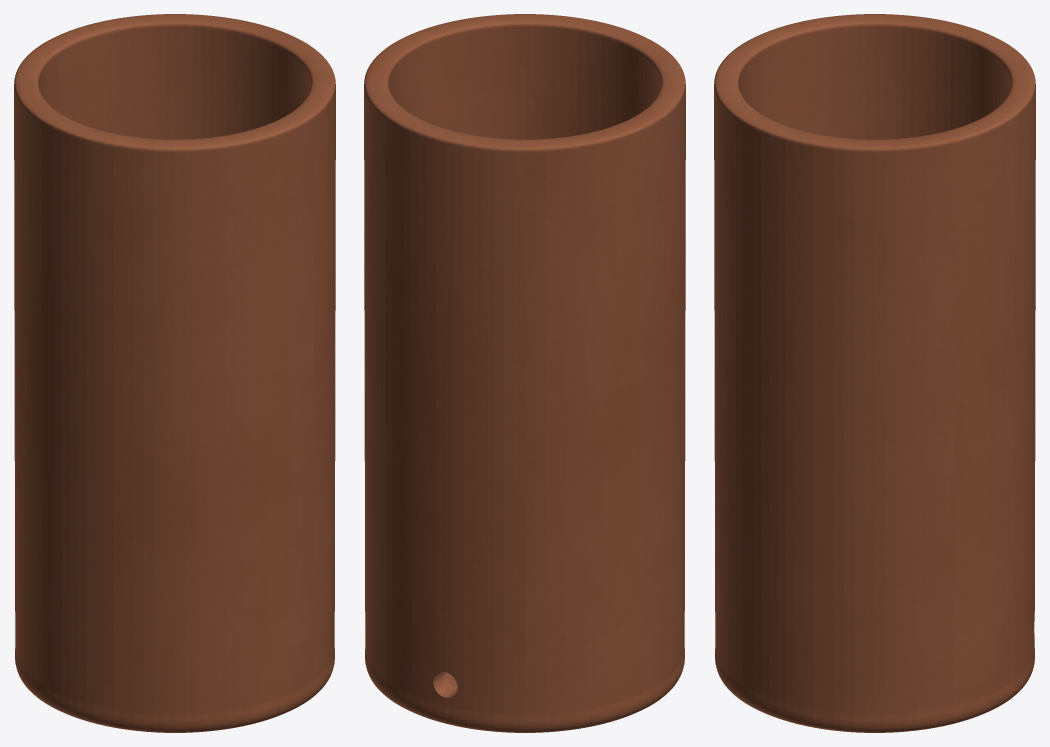
File: c9827eb0-056e-43b1-a103-bbad47dc0121.glb
The picture shows the model from 3 angles, left to right: view 1: azimuth 30°, elevation 25°; view 2: azimuth 150°, elevation 25°; view 3: azimuth 270°, elevation 25°; orthographic projection.
Parts seen in each view (by area): view 1: Cube; view 2: Cube; view 3: Cube.
Part boxes in pixels (x1,y1,x2,y2): Cube: [14, 14, 335, 732]; Cube: [364, 14, 685, 732]; Cube: [714, 14, 1035, 732].
Size of the model in its own units: 4.55 by 9.22 by 4.55.
Materials: 1 (1 with a texture image).
